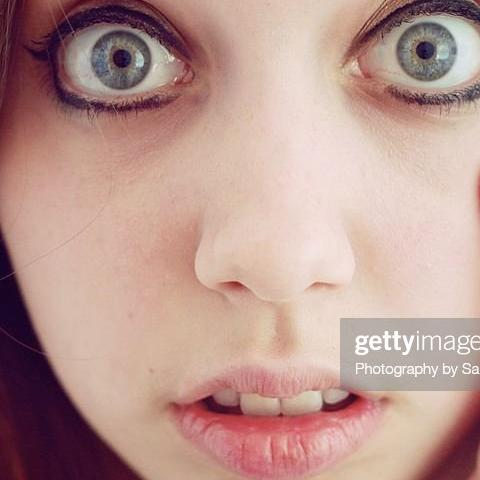opened: (0, 0, 480, 151)
